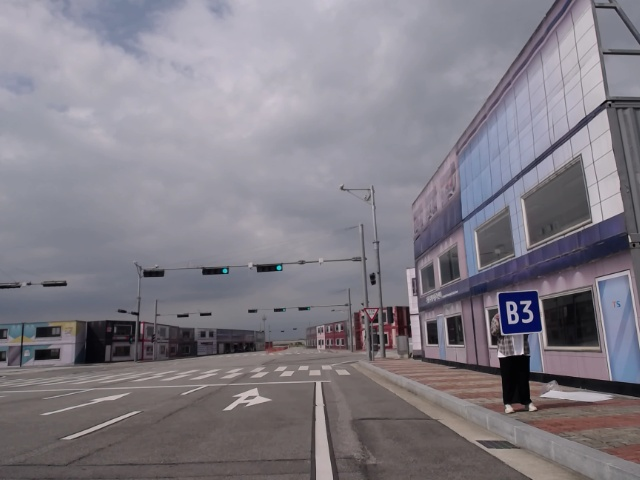delivery_b3: (497, 290, 544, 335)
straight_green_4: (253, 261, 284, 274), (200, 265, 230, 277), (273, 307, 288, 314), (298, 305, 312, 312)
